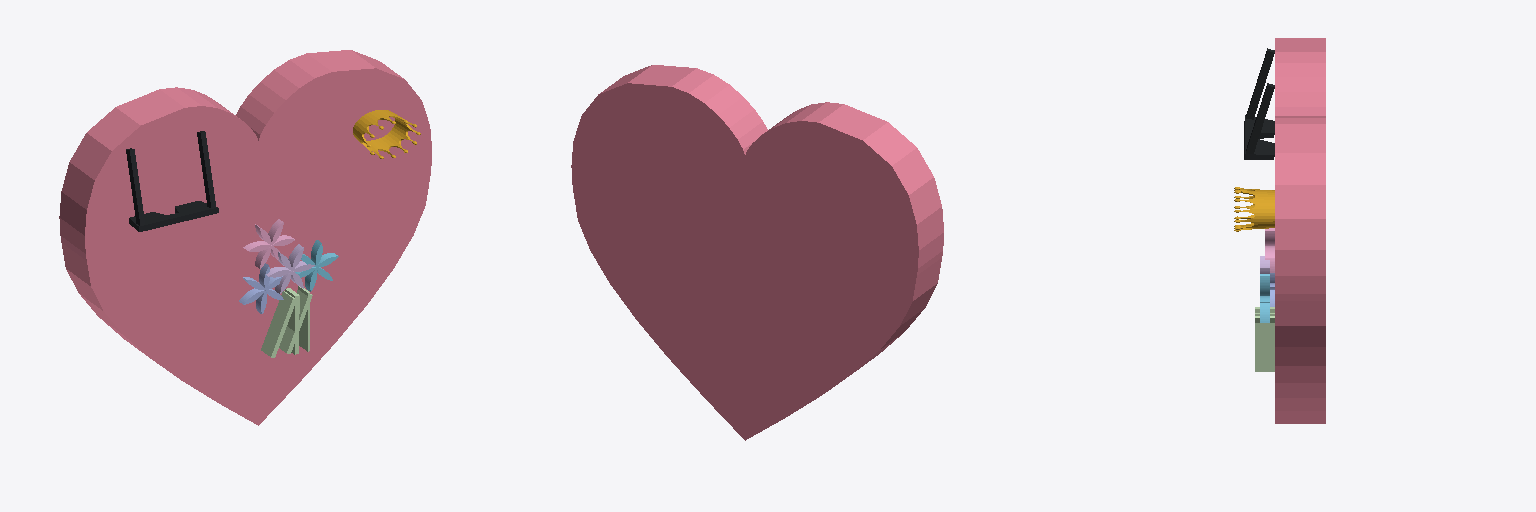
The model's file is tinker.obj.
3 views of the same model, side by side, from view 1: azimuth 30°, elevation 25°; view 2: azimuth 150°, elevation 25°; view 3: azimuth 270°, elevation 25° (orthographic).
Parts seen in each view (by area): view 1: obj_0; view 2: obj_0; view 3: obj_0.
Part boxes in pixels (x1,y1,x2,y2): obj_0: (59, 50, 431, 425); obj_0: (571, 65, 943, 440); obj_0: (1234, 38, 1325, 423).
Bounding box in the file's own units: 79 × 73 × 18.